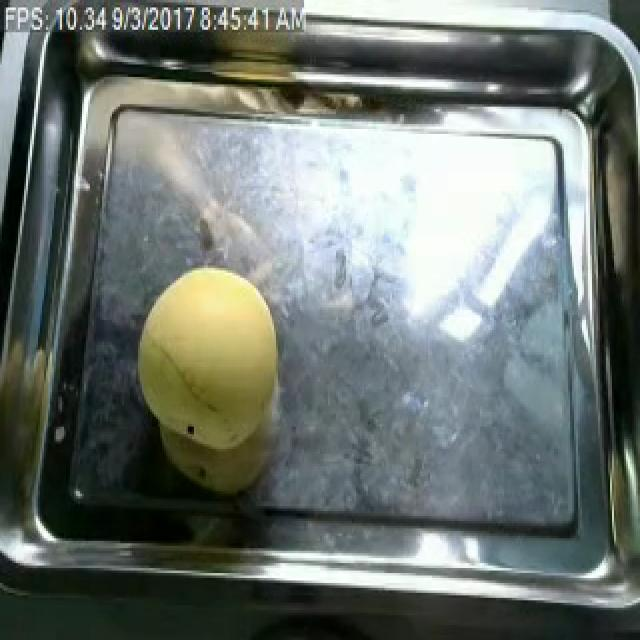Fruit: (116, 253, 294, 504)
